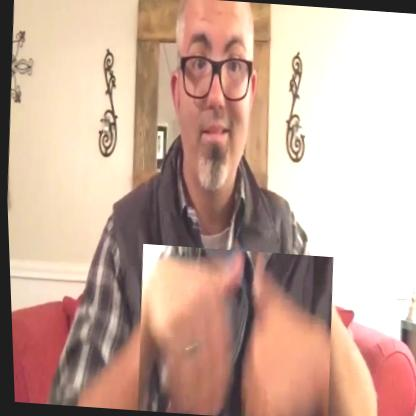HowAreYou: (130, 244, 336, 416)
